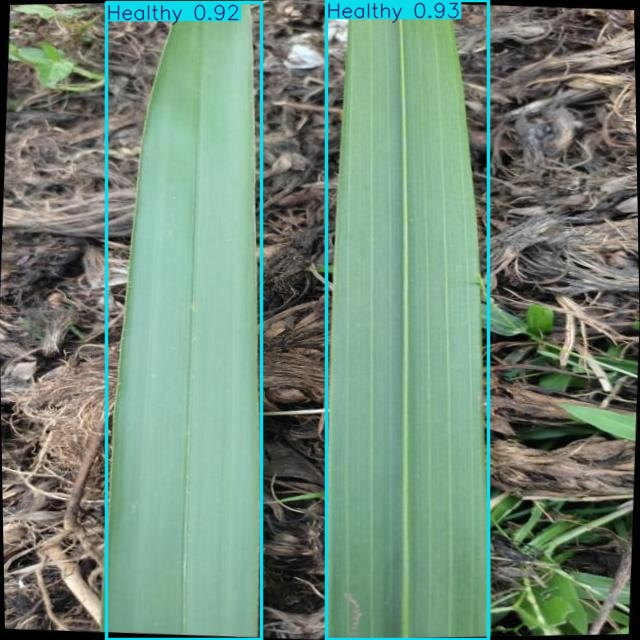Healthy: (327, 1, 489, 640), (106, 2, 262, 639)
